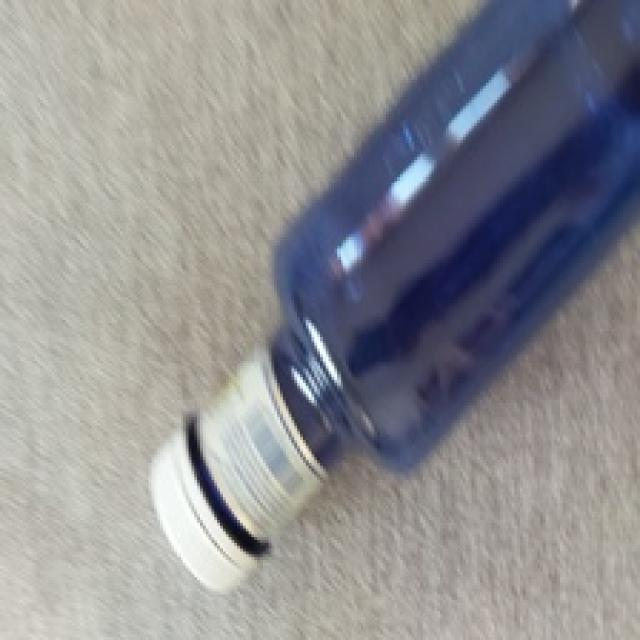plastic_bottle: (147, 0, 640, 591)
